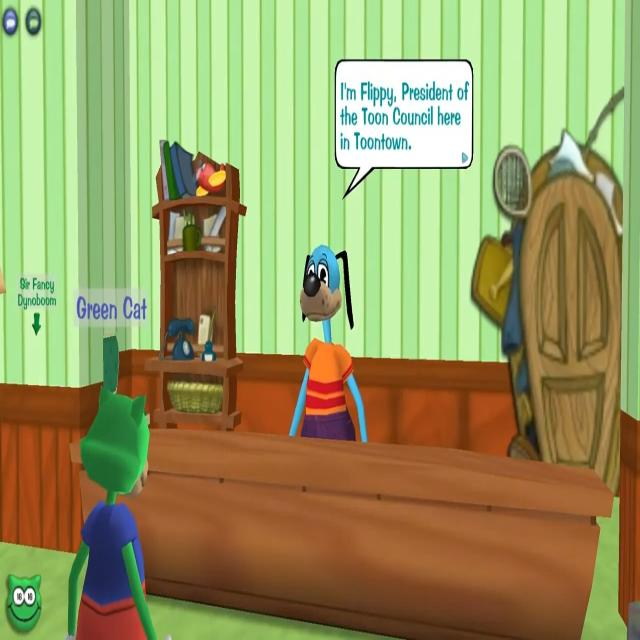npc: (289, 240, 370, 454)
